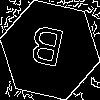B: (25, 25, 66, 77)
